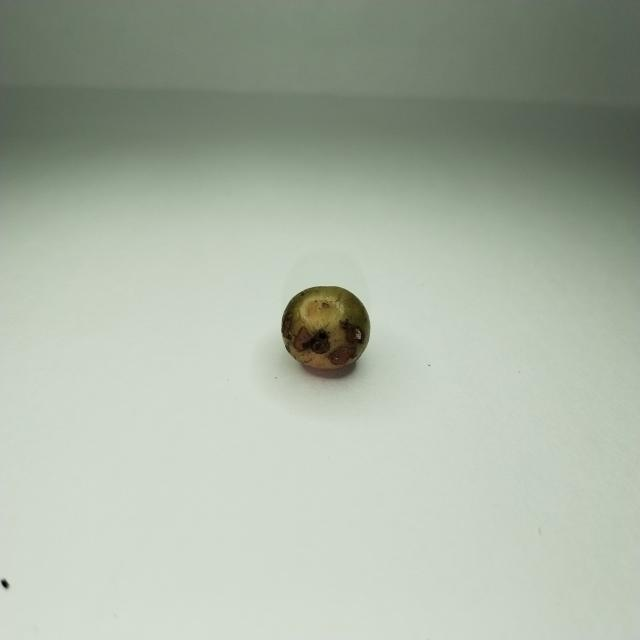Infectado: (281, 287, 369, 376)
